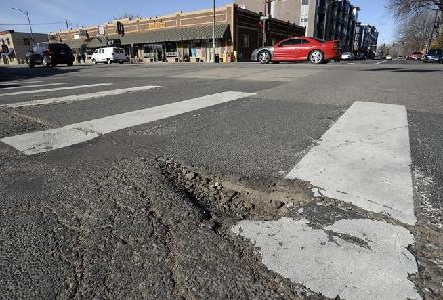pothole: (151, 150, 326, 231)
